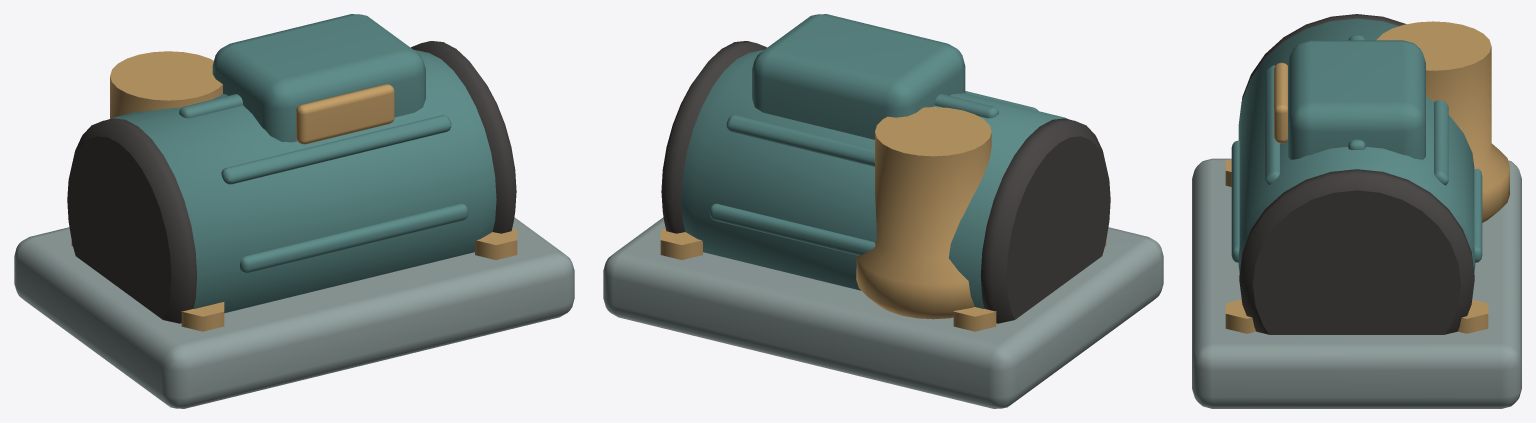
File: creek-transfer-pump.glb
3 views of the same model, side by side, from view 1: azimuth 30°, elevation 25°; view 2: azimuth 150°, elevation 25°; view 3: azimuth 270°, elevation 25° (orthographic).
Parts seen in each view (by area): view 1: Oxidized blue pump casting, Pump mounting foot, Black pump seals, Tarnished brass fittings; view 2: Oxidized blue pump casting, Pump mounting foot, Black pump seals, Tarnished brass fittings; view 3: Pump mounting foot, Black pump seals, Oxidized blue pump casting, Tarnished brass fittings.
Part boxes in pixels (x1,y1,x2,y2): Oxidized blue pump casting: (109, 14, 496, 313); Pump mounting foot: (14, 217, 574, 408); Black pump seals: (67, 41, 516, 323); Tarnished brass fittings: (71, 51, 517, 331); Oxidized blue pump casting: (681, 14, 1068, 308); Pump mounting foot: (603, 217, 1163, 408); Black pump seals: (661, 41, 1110, 323); Tarnished brass fittings: (660, 107, 1106, 331); Pump mounting foot: (1192, 158, 1521, 408); Black pump seals: (1239, 14, 1474, 334); Oxidized blue pump casting: (1231, 18, 1482, 272); Tarnished brass fittings: (1225, 21, 1509, 333).
Size of the model in its own units: 0.56 by 0.3335 by 0.39.
